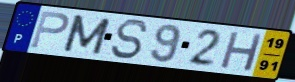2: (186, 28, 224, 68)
9: (148, 22, 183, 64)
H: (218, 29, 266, 73)
M: (60, 13, 113, 57)
P: (28, 9, 71, 50)
S: (109, 18, 150, 61)
